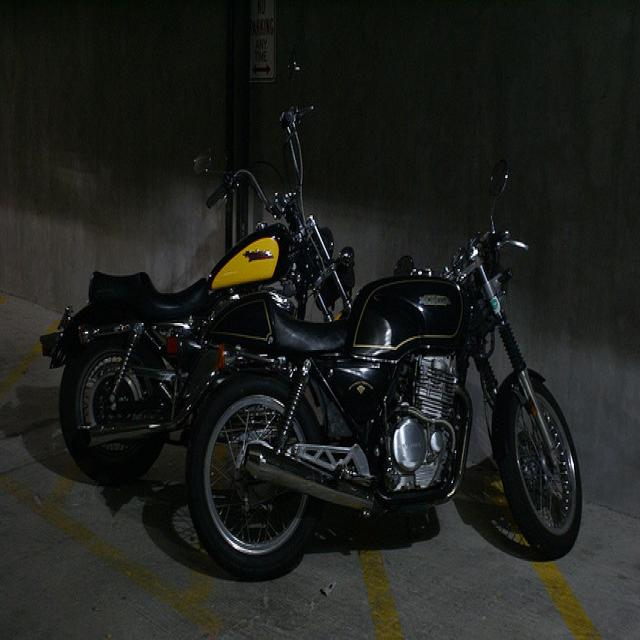Motorbike: (41, 152, 604, 578)
